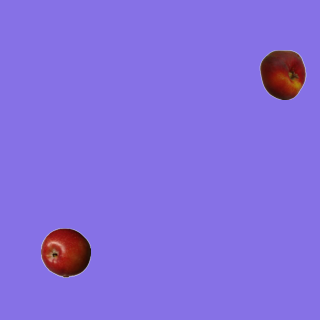Apple Braeburn: (40, 227, 90, 277)
Nectarine Flat: (257, 49, 307, 99)
